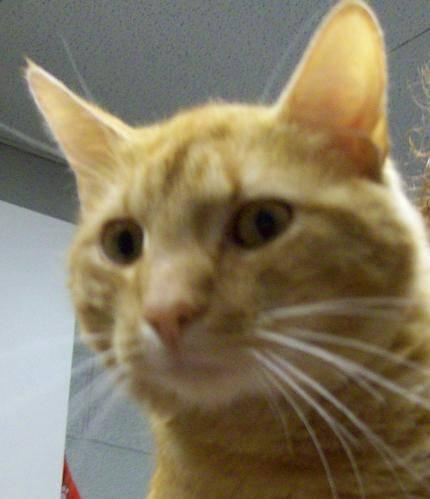cat: (25, 0, 429, 498)
